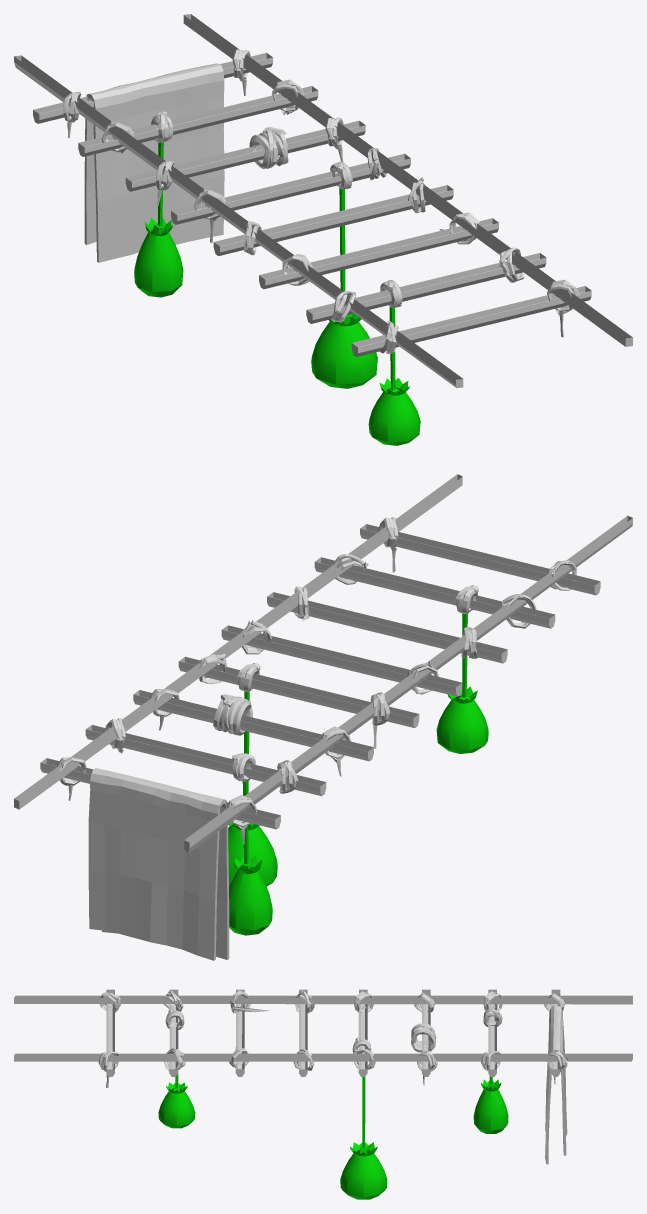
The model's file is EA03_Prop_Crate_Under_Ceiling_01a.fbx.
3 views of the same model, one above another, from view 1: azimuth 30°, elevation 25°; view 2: azimuth 150°, elevation 25°; view 3: azimuth 270°, elevation 25° (orthographic). The views are drawn at different scales.
Visible parts, largest first — view 1: EA03_Prop_Crate_Under_Ceiling_01a_LOD0; view 2: EA03_Prop_Crate_Under_Ceiling_01a_LOD0; view 3: EA03_Prop_Crate_Under_Ceiling_01a_LOD0.
Boxes of the visible parts, box(x1,y1,x2,y2) form: EA03_Prop_Crate_Under_Ceiling_01a_LOD0: box(14, 14, 632, 445); EA03_Prop_Crate_Under_Ceiling_01a_LOD0: box(14, 474, 632, 960); EA03_Prop_Crate_Under_Ceiling_01a_LOD0: box(14, 989, 632, 1199).
Size of what is drawn, in the model's own units: 0.8919 by 0.8312 by 2.93.
